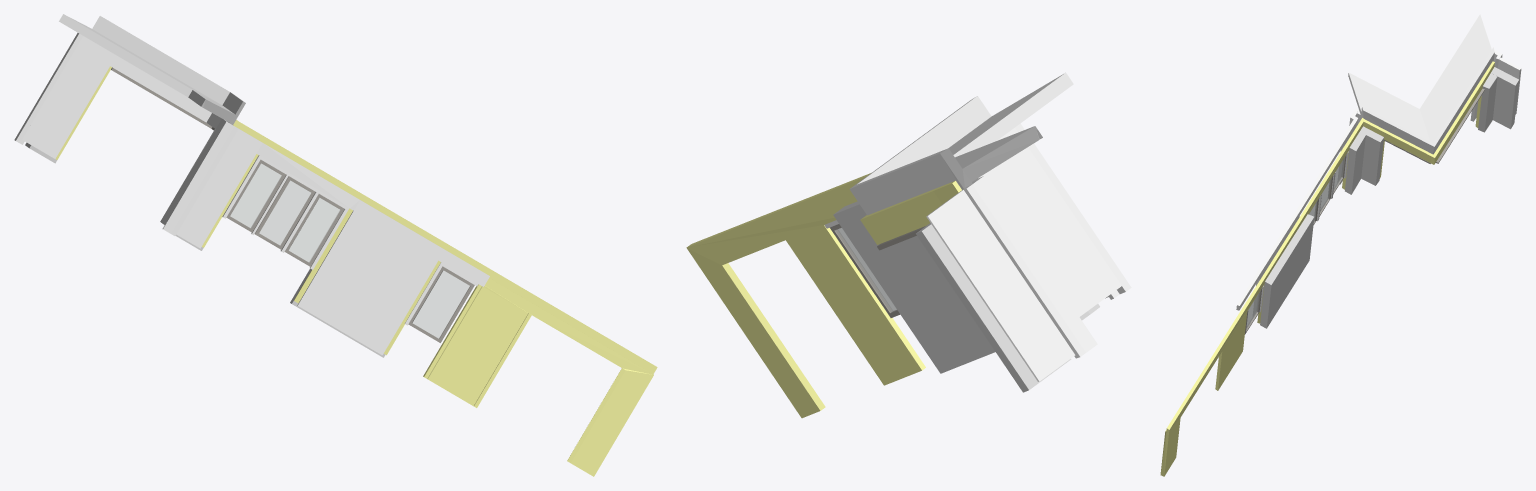
The picture shows the model from 3 angles, left to right: view 1: azimuth 30°, elevation 25°; view 2: azimuth 150°, elevation 25°; view 3: azimuth 270°, elevation 25°; orthographic projection. The views are drawn at different scales.
Visible parts, largest first — view 1: mesh; view 2: mesh; view 3: mesh.
Part boxes in pixels (box(x1,y1,x2,y2)): mesh: box(14, 14, 657, 476); mesh: box(686, 72, 1131, 418); mesh: box(1160, 14, 1521, 476).
Size of the model in its own units: 11.84 by 10.2 by 10.15.
